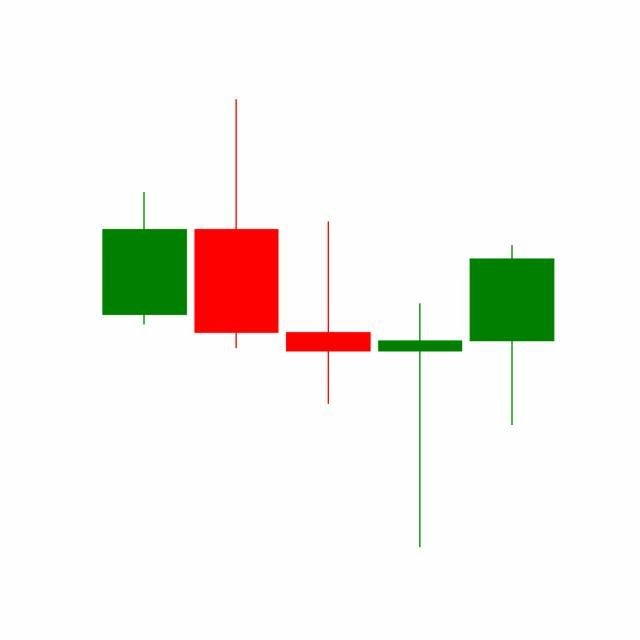Spinning Top: (374, 301, 468, 551)
